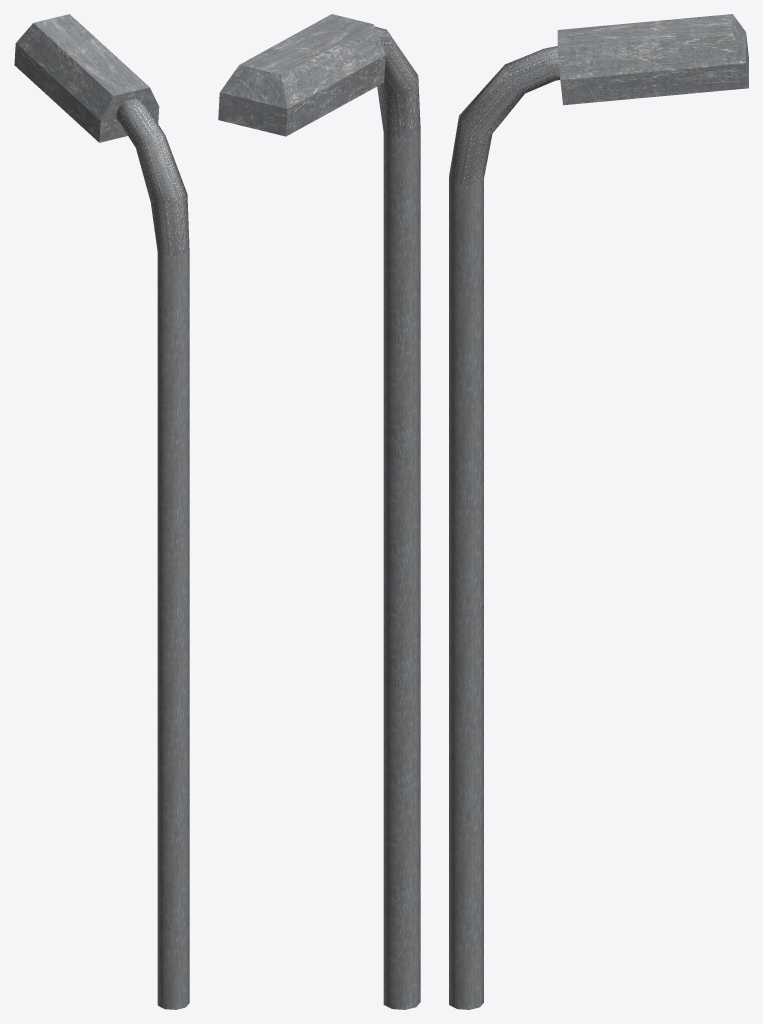
Rendered from Lantern.fbx.
3 renders of one model, left to right at view 1: azimuth 30°, elevation 25°; view 2: azimuth 150°, elevation 25°; view 3: azimuth 270°, elevation 25°, orthographic. The views are drawn at different scales.
Parts seen in each view (by area): view 1: Cylinder, Cube; view 2: Cylinder, Cube; view 3: Cylinder, Cube.
Boxes of the visible parts, left/top/right/bottom form: Cylinder: left=116, top=98, right=189, bottom=1009; Cube: left=14, top=14, right=159, bottom=142; Cylinder: left=375, top=26, right=420, bottom=1009; Cube: left=218, top=14, right=385, bottom=136; Cylinder: left=449, top=46, right=560, bottom=1009; Cube: left=557, top=14, right=748, bottom=105.
Size of the model in its own units: 56.97 by 832 by 231.
